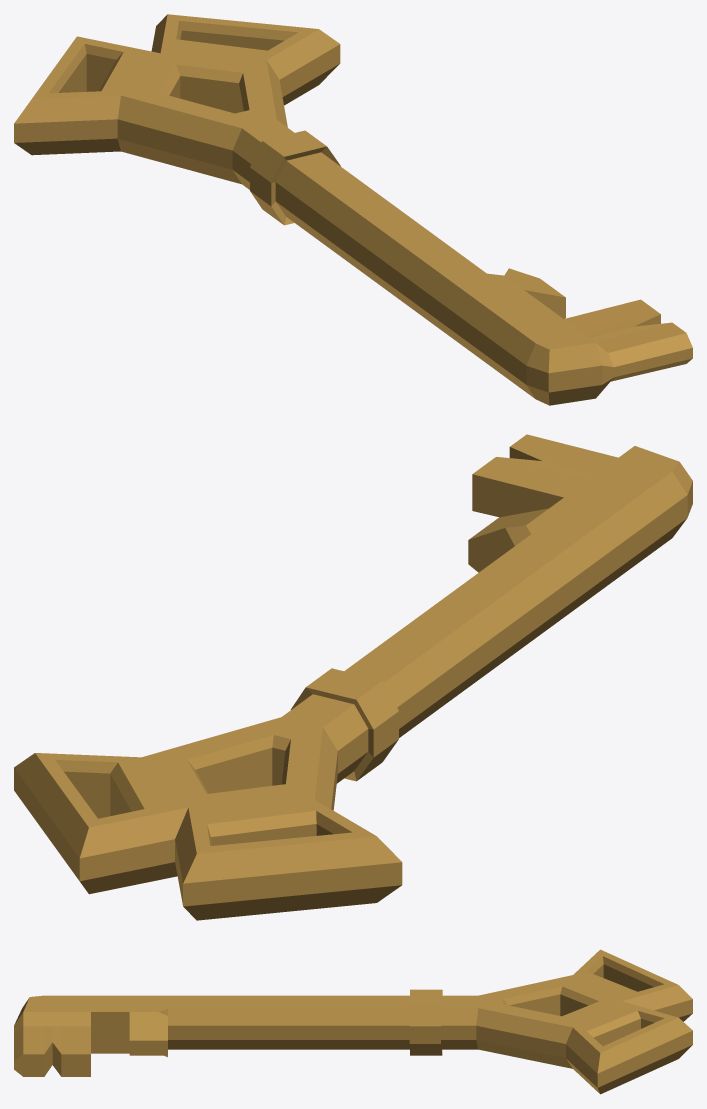
Rendered from Key.glb.
The picture shows the model from 3 angles, top to bottom: view 1: azimuth 30°, elevation 25°; view 2: azimuth 150°, elevation 25°; view 3: azimuth 270°, elevation 25°; orthographic projection. The views are drawn at different scales.
Visible parts, largest first — view 1: Key; view 2: Key; view 3: Key.
Part boxes in pixels (x1,y1,x2,y2): Key: (14,14,692,405); Key: (14,434,692,920); Key: (14,949,692,1094).
Size of the model in its own units: 0.036 by 0.00724 by 0.0879.
